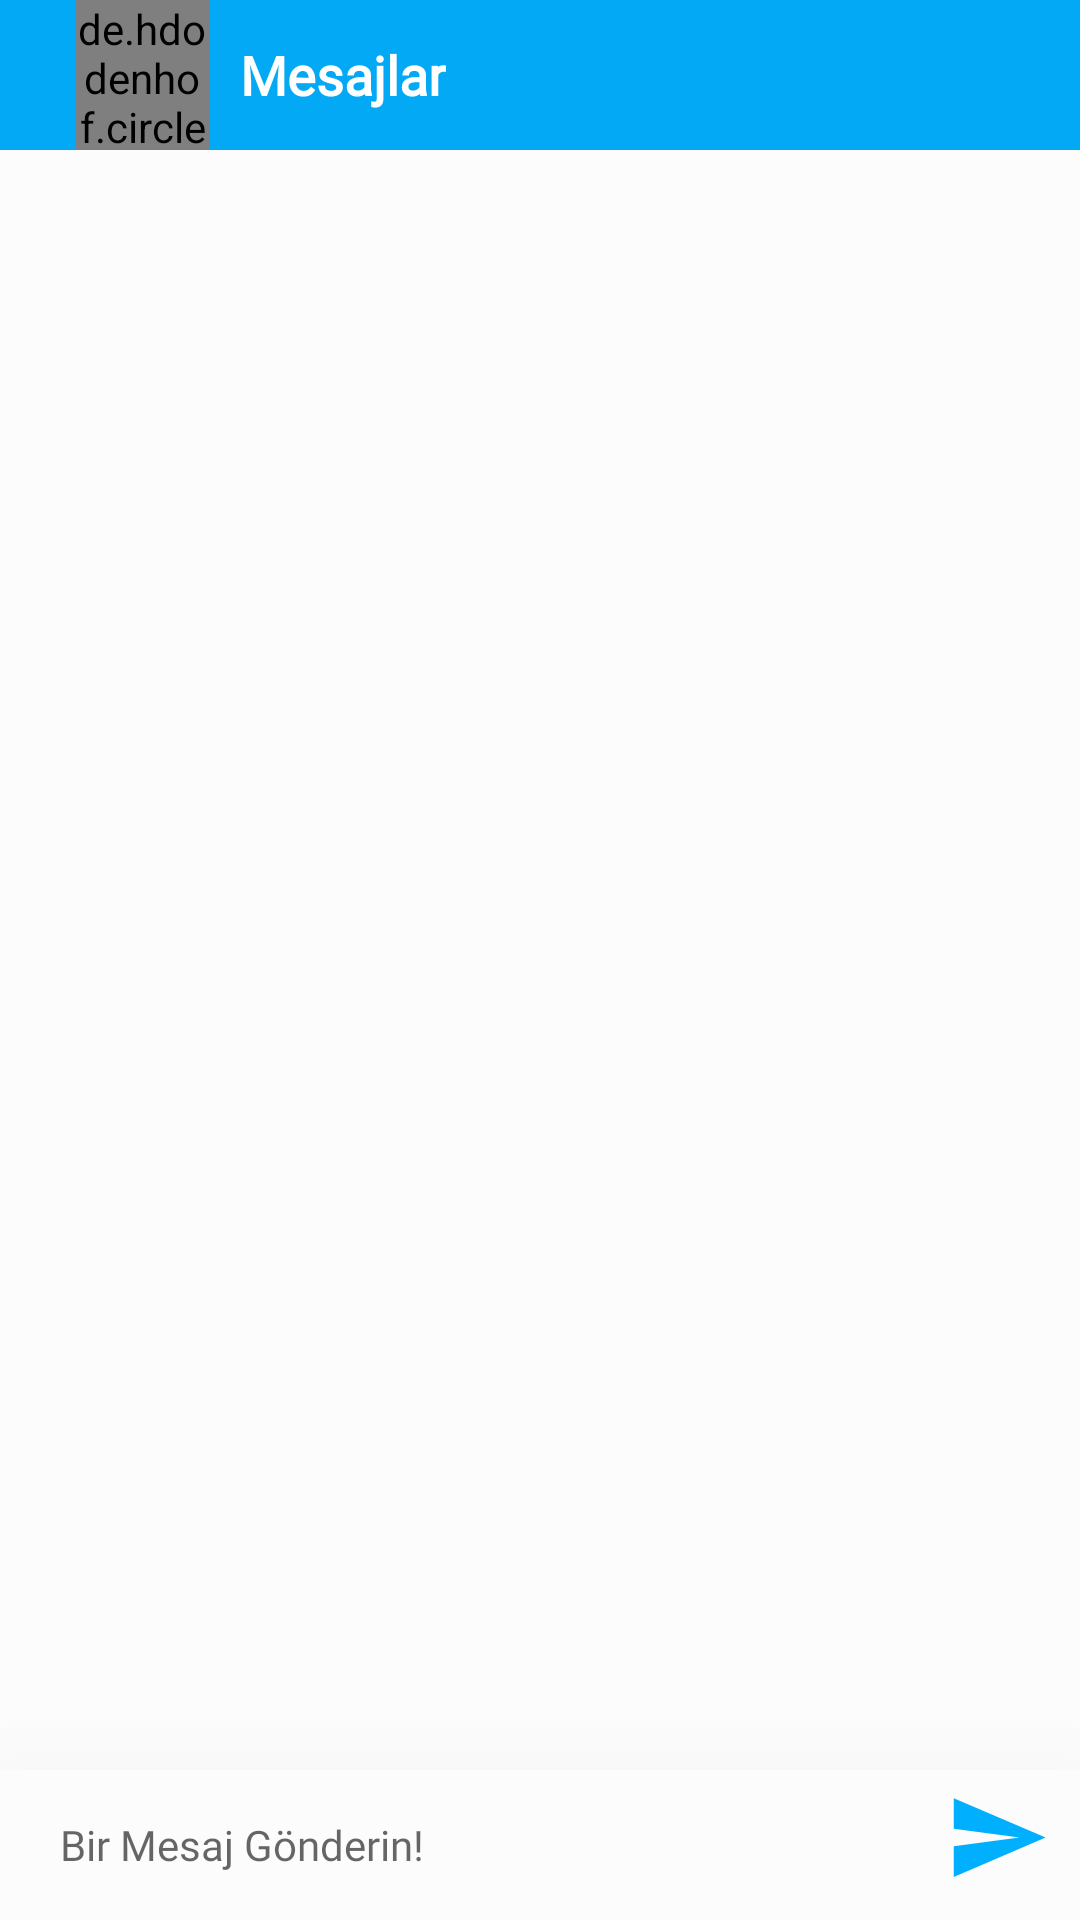

Where icons sit on this 1080×1920 app screen, as (x1, y1, x2, y2):
send: (953, 1798, 1046, 1877)
